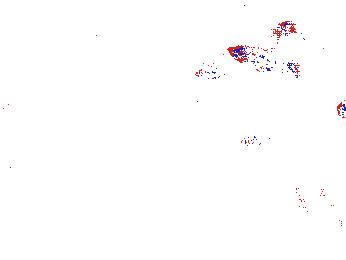red belly glassfish: (239, 129, 273, 149), (193, 66, 235, 80)
redtail glassfish: (225, 44, 301, 81), (274, 15, 312, 47), (335, 95, 346, 120)
